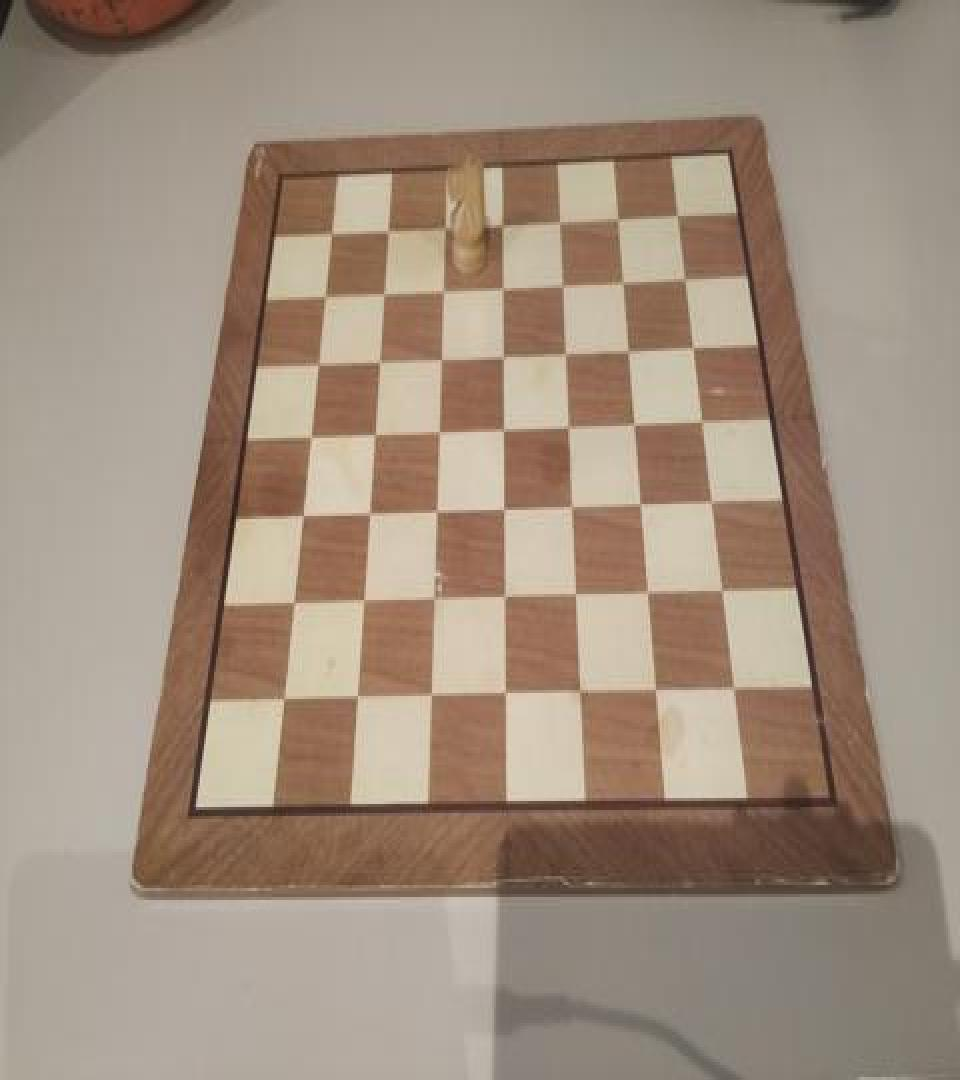xcorner: (357, 499, 377, 530), (271, 687, 291, 717), (345, 686, 365, 716), (419, 684, 439, 714), (571, 681, 591, 711), (648, 680, 668, 710), (727, 678, 747, 708), (282, 590, 302, 620), (351, 588, 371, 618), (494, 584, 514, 614), (566, 582, 586, 612), (639, 579, 659, 609), (714, 578, 734, 608), (291, 502, 311, 532), (425, 496, 445, 526), (493, 495, 513, 525), (562, 492, 582, 522), (632, 489, 652, 519), (702, 486, 722, 516), (299, 422, 319, 452), (363, 418, 383, 448), (427, 416, 447, 446), (492, 414, 512, 444), (558, 411, 578, 441), (625, 408, 645, 438), (692, 405, 712, 435), (307, 348, 327, 378), (368, 345, 388, 375), (429, 342, 449, 372), (492, 339, 512, 369), (554, 336, 574, 366), (618, 333, 638, 363), (682, 330, 702, 360), (314, 282, 334, 312), (372, 278, 392, 308), (431, 274, 451, 304), (491, 272, 511, 302), (551, 268, 571, 298), (612, 264, 632, 294), (674, 261, 694, 291), (321, 219, 341, 249), (377, 216, 397, 246), (433, 213, 453, 243), (490, 208, 510, 238), (548, 206, 568, 236), (607, 201, 627, 231), (666, 198, 686, 228), (494, 683, 514, 712), (422, 587, 442, 616)
